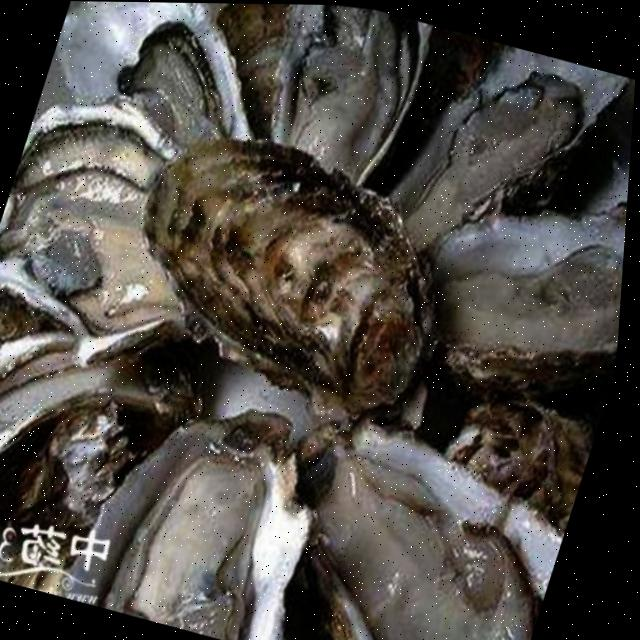Oyster-Indeterminate: (127, 123, 450, 427), (0, 344, 217, 559), (356, 21, 521, 202), (437, 390, 600, 548), (209, 3, 298, 144)
Oyster-Open: (49, 399, 333, 640), (285, 410, 568, 640), (0, 88, 208, 380), (369, 45, 635, 258), (420, 187, 628, 405), (49, 1, 262, 157), (265, 4, 438, 188), (0, 276, 82, 386)
